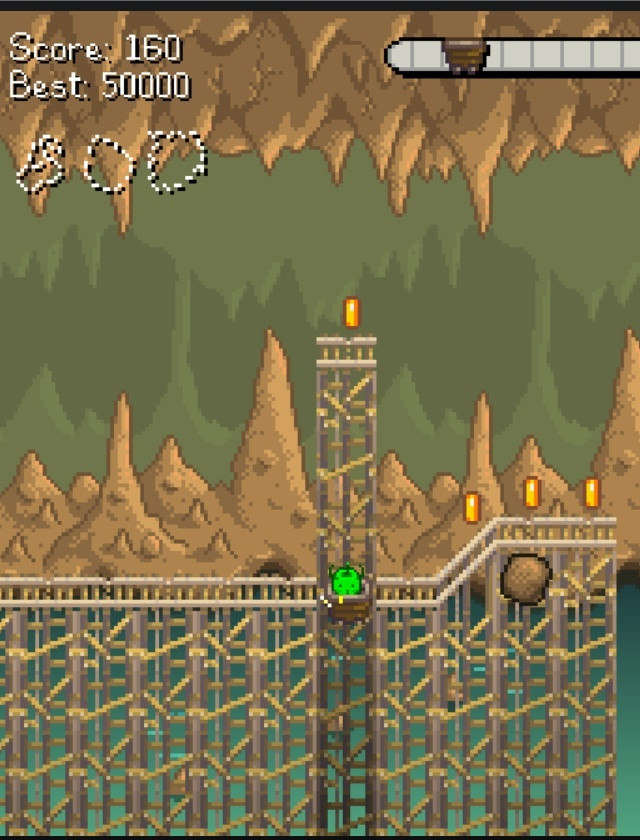boulder: (500, 553, 551, 606)
coins: (344, 296, 360, 329), (464, 491, 480, 523), (584, 476, 600, 508), (525, 477, 538, 507)
minecart: (330, 584, 371, 622)
score: (124, 29, 184, 66)
tracks: (0, 568, 326, 617), (309, 331, 383, 374), (339, 595, 344, 604)
